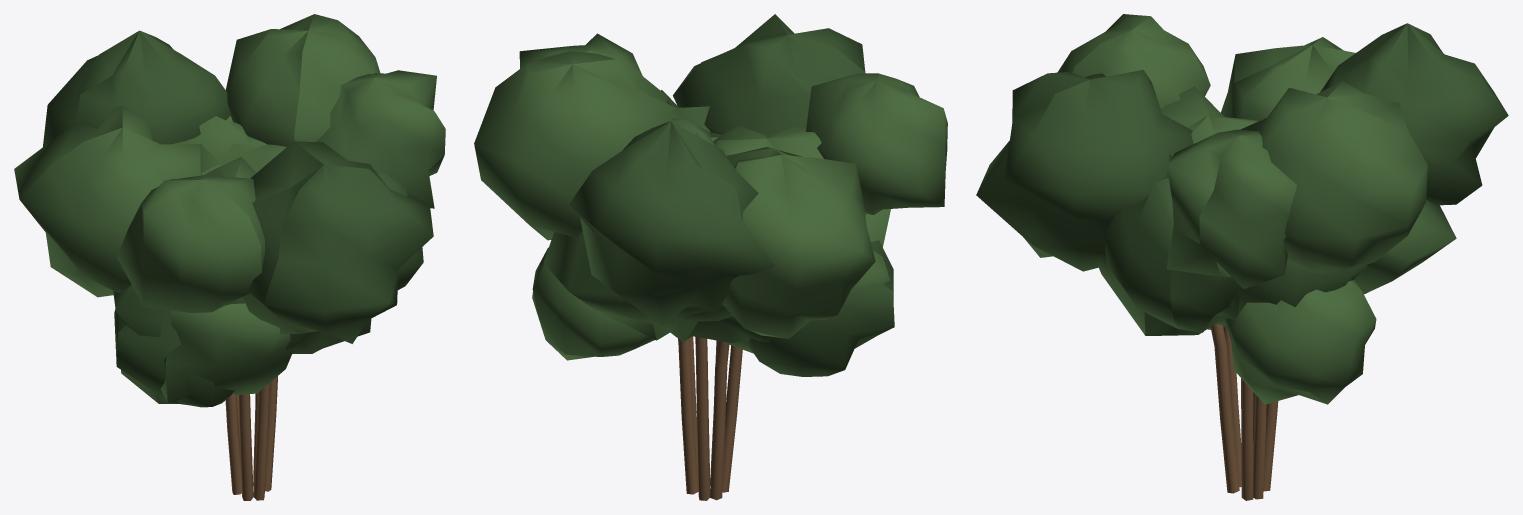
File: lonc-nitida.glb
3 renders of one model, left to right at view 1: azimuth 30°, elevation 25°; view 2: azimuth 150°, elevation 25°; view 3: azimuth 270°, elevation 25°, orthographic. The views are drawn at different scales.
Visible parts, largest first — view 1: korona-4, korona-8, korona-6, korona-12, korona-10, korona-2, korona-17, korona-16, korona-18, korona-11, vesszo-2, vesszo-3 (+5 smaller); view 2: korona-10, korona-12, korona-8, korona-6, korona-4, korona-16, korona-15, korona-18, korona-5, korona-2, vesszo-5, vesszo-4 (+6 smaller); view 3: korona-4, korona-12, korona-2, korona-10, korona-15, korona-13, korona-6, korona-8, korona-18, korona-11, korona-5, vesszo-2 (+5 smaller).
Boxes of the visible parts, left/top/right/bottom form: korona-4: left=242, top=141, right=433, bottom=343; korona-8: left=14, top=105, right=201, bottom=297; korona-6: left=117, top=174, right=265, bottom=312; korona-12: left=226, top=14, right=380, bottom=146; korona-10: left=43, top=30, right=230, bottom=146; korona-2: left=316, top=70, right=445, bottom=208; korona-17: left=113, top=284, right=294, bottom=405; korona-16: left=114, top=309, right=234, bottom=407; korona-18: left=172, top=115, right=249, bottom=160; korona-11: left=200, top=136, right=286, bottom=172; vesszo-2: left=253, top=383, right=269, bottom=500; vesszo-3: left=238, top=394, right=253, bottom=500; korona-10: left=569, top=121, right=775, bottom=326; korona-12: left=474, top=51, right=675, bottom=240; korona-8: left=722, top=147, right=875, bottom=338; korona-6: left=806, top=73, right=947, bottom=214; korona-4: left=673, top=14, right=865, bottom=134; korona-16: left=745, top=240, right=894, bottom=376; korona-15: left=532, top=247, right=654, bottom=360; korona-18: left=543, top=132, right=706, bottom=340; korona-5: left=713, top=126, right=866, bottom=216; korona-2: left=519, top=33, right=667, bottom=103; vesszo-5: left=695, top=336, right=710, bottom=500; vesszo-4: left=710, top=340, right=729, bottom=500; korona-4: left=976, top=70, right=1193, bottom=271; korona-12: left=1240, top=81, right=1427, bottom=274; korona-2: left=1166, top=129, right=1296, bottom=289; korona-10: left=1320, top=23, right=1508, bottom=205; korona-15: left=1223, top=280, right=1376, bottom=404; korona-13: left=1104, top=154, right=1239, bottom=332; korona-6: left=1057, top=14, right=1210, bottom=109; korona-8: left=1220, top=37, right=1355, bottom=120; korona-18: left=1354, top=200, right=1456, bottom=294; korona-11: left=1216, top=262, right=1367, bottom=319; korona-5: left=1161, top=86, right=1258, bottom=143; vesszo-2: left=1210, top=323, right=1239, bottom=493.
Bounding box in the file's own units: 1.12 × 1.2 × 1.29.
